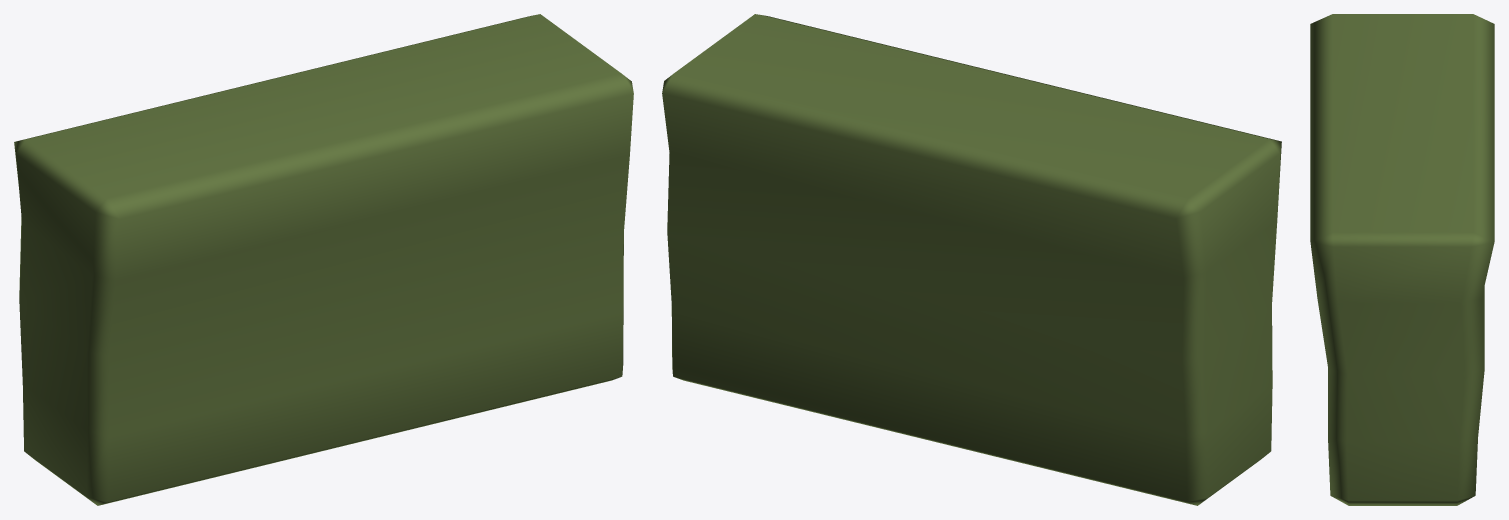
Rendered from PS_Hedge.fbx.
3 renders of one model, left to right at view 1: azimuth 30°, elevation 25°; view 2: azimuth 150°, elevation 25°; view 3: azimuth 270°, elevation 25°, orthographic. The views are drawn at different scales.
Visible parts, largest first — view 1: PS_Hedge; view 2: PS_Hedge; view 3: PS_Hedge.
Part boxes in pixels (x1,y1,x2,y2): PS_Hedge: (14, 14, 633, 505); PS_Hedge: (662, 14, 1281, 505); PS_Hedge: (1310, 14, 1494, 505).
Bounding box in the file's own units: 2 × 1.12 × 0.6823.
